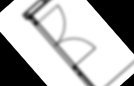double door: (36, 2, 98, 67)
